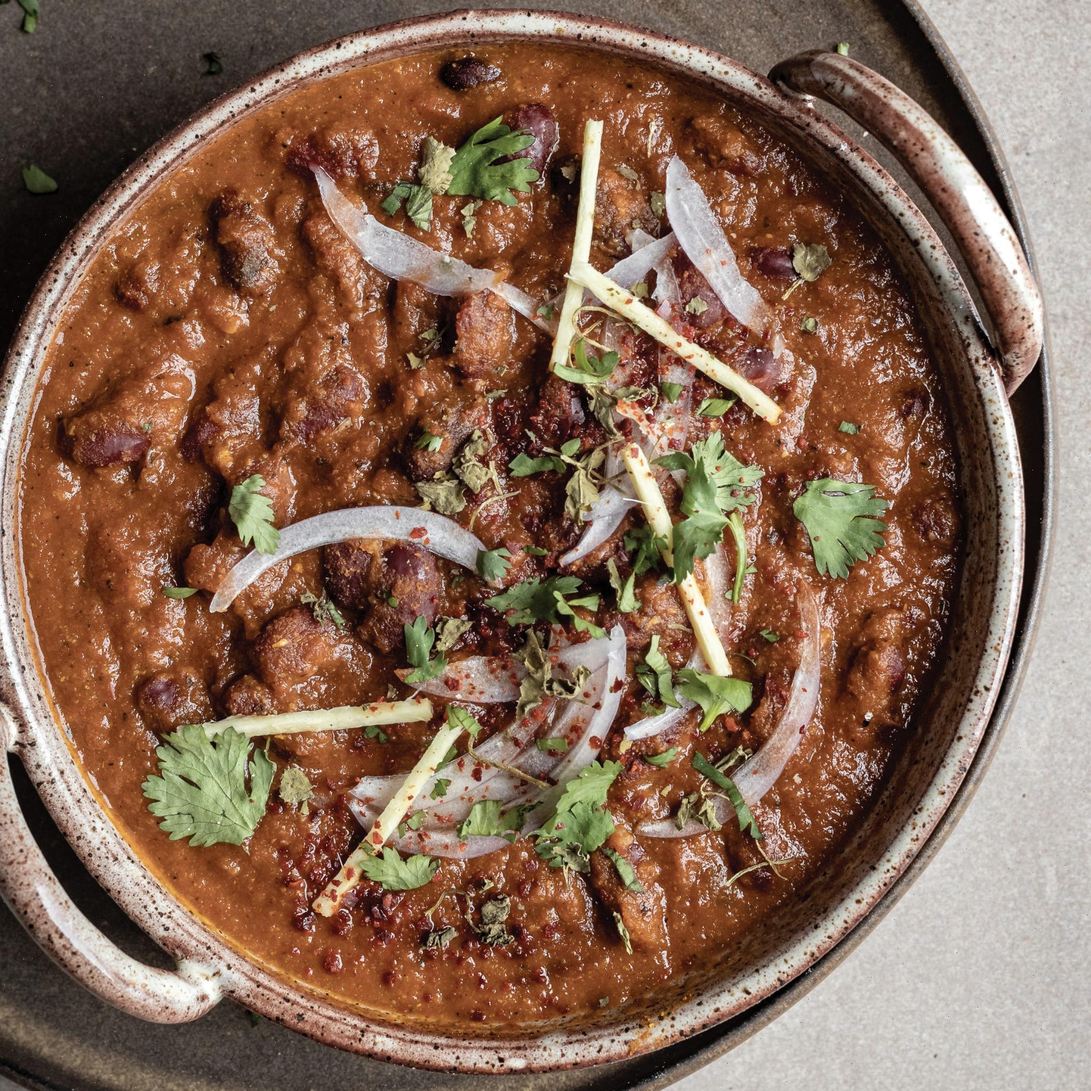rajma: (23, 39, 1041, 1091)
